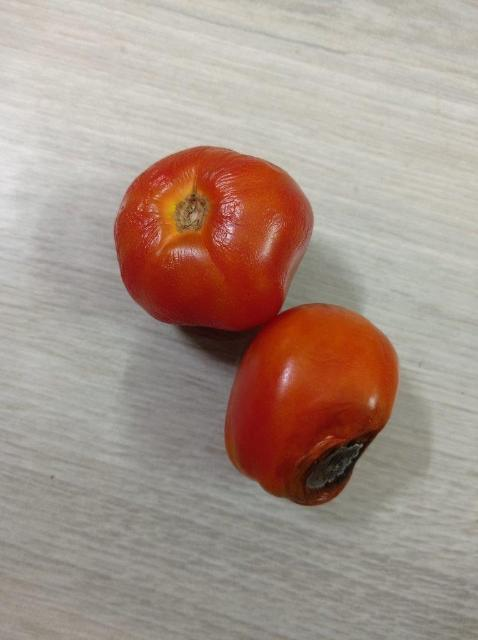defect: (223, 302, 403, 509)
